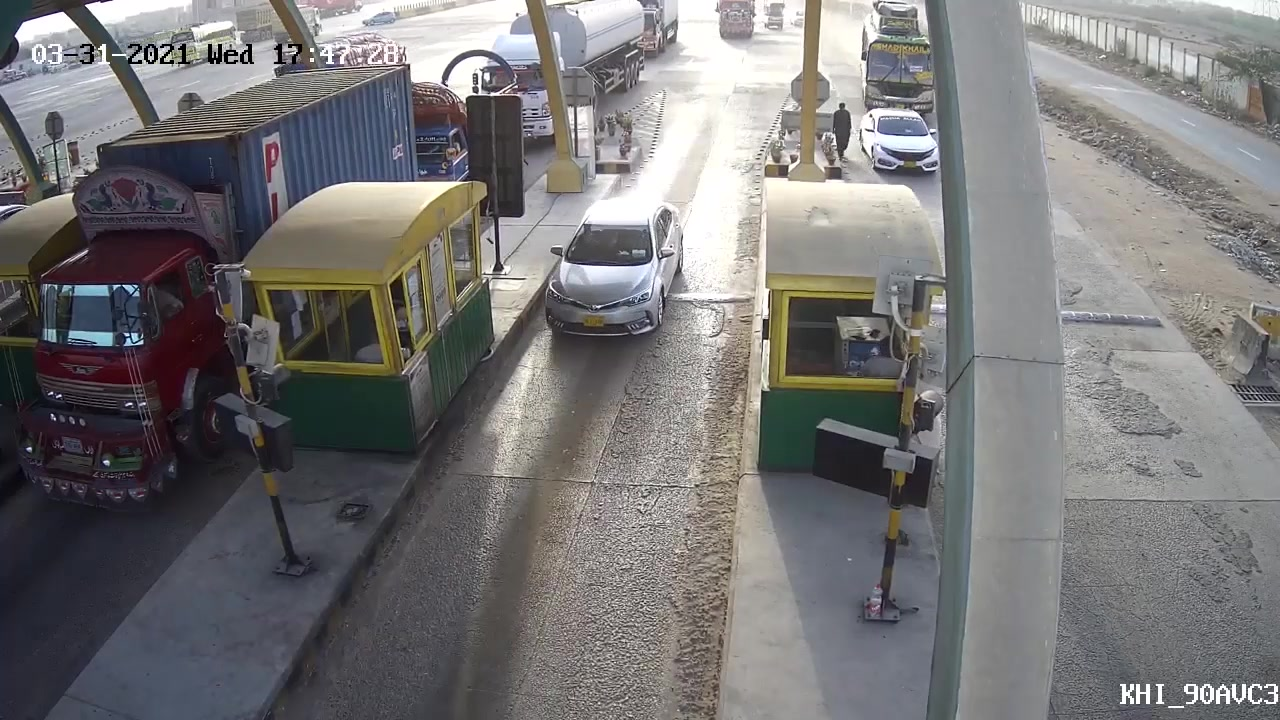F1: (544, 190, 694, 353)
